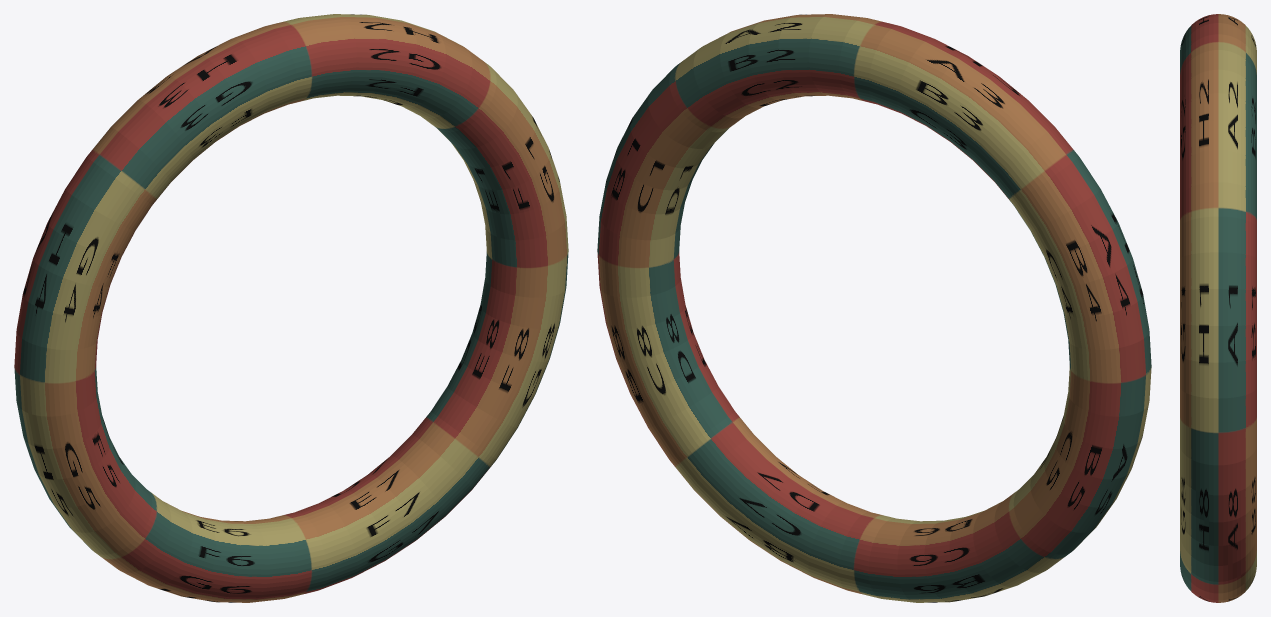
File: texture_torus_R13_r3.glb
3 renders of one model, left to right at view 1: azimuth 30°, elevation 25°; view 2: azimuth 150°, elevation 25°; view 3: azimuth 270°, elevation 25°, orthographic. The views are drawn at different scales.
Visible parts, largest first — view 1: world; view 2: world; view 3: world.
Boxes of the visible parts, left/top/right/bottom form: world: left=14, top=14, right=568, bottom=602; world: left=597, top=14, right=1151, bottom=602; world: left=1180, top=14, right=1256, bottom=602.
Size of the model in its own units: 21.47 by 21.42 by 2.79.
Materials: 1 (1 with a texture image).
